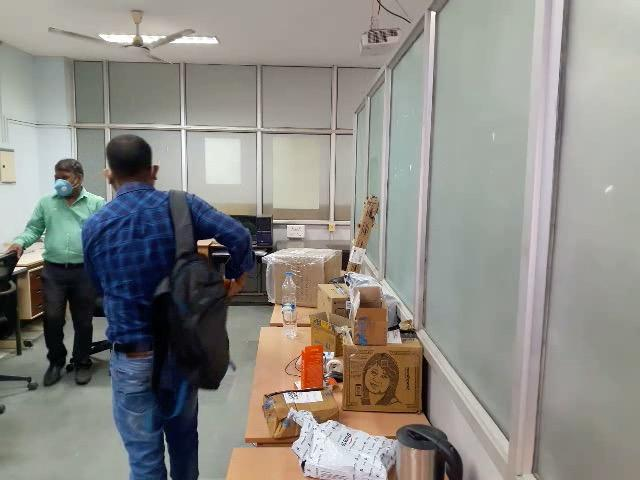shoplifting: (79, 197, 271, 461)
